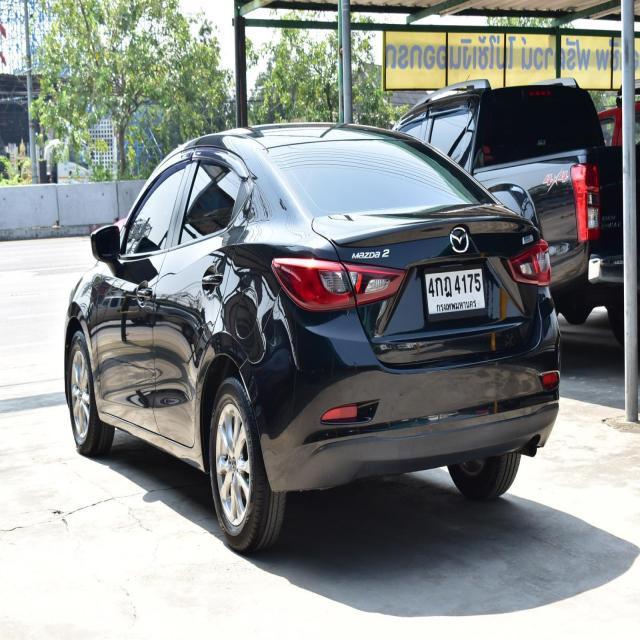license_plate: (422, 262, 489, 322)
